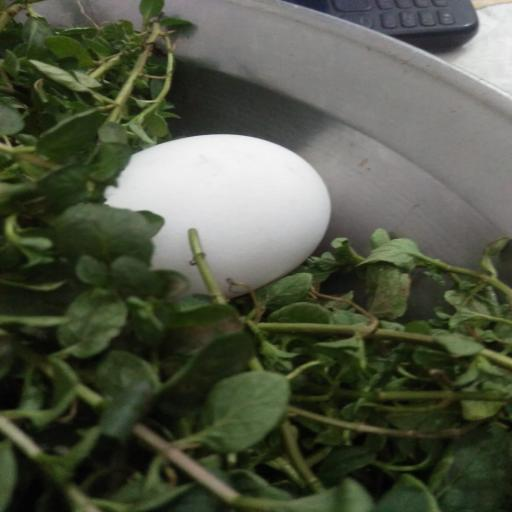telur: (105, 134, 331, 297)
